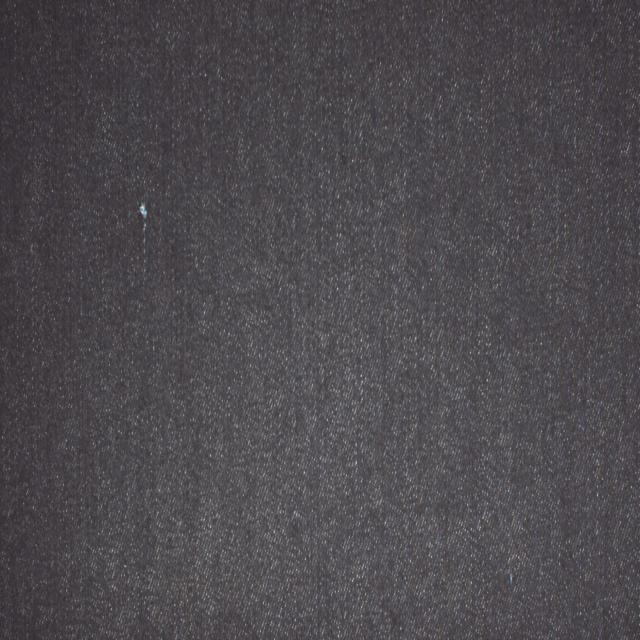Knot: (138, 202, 146, 218)
